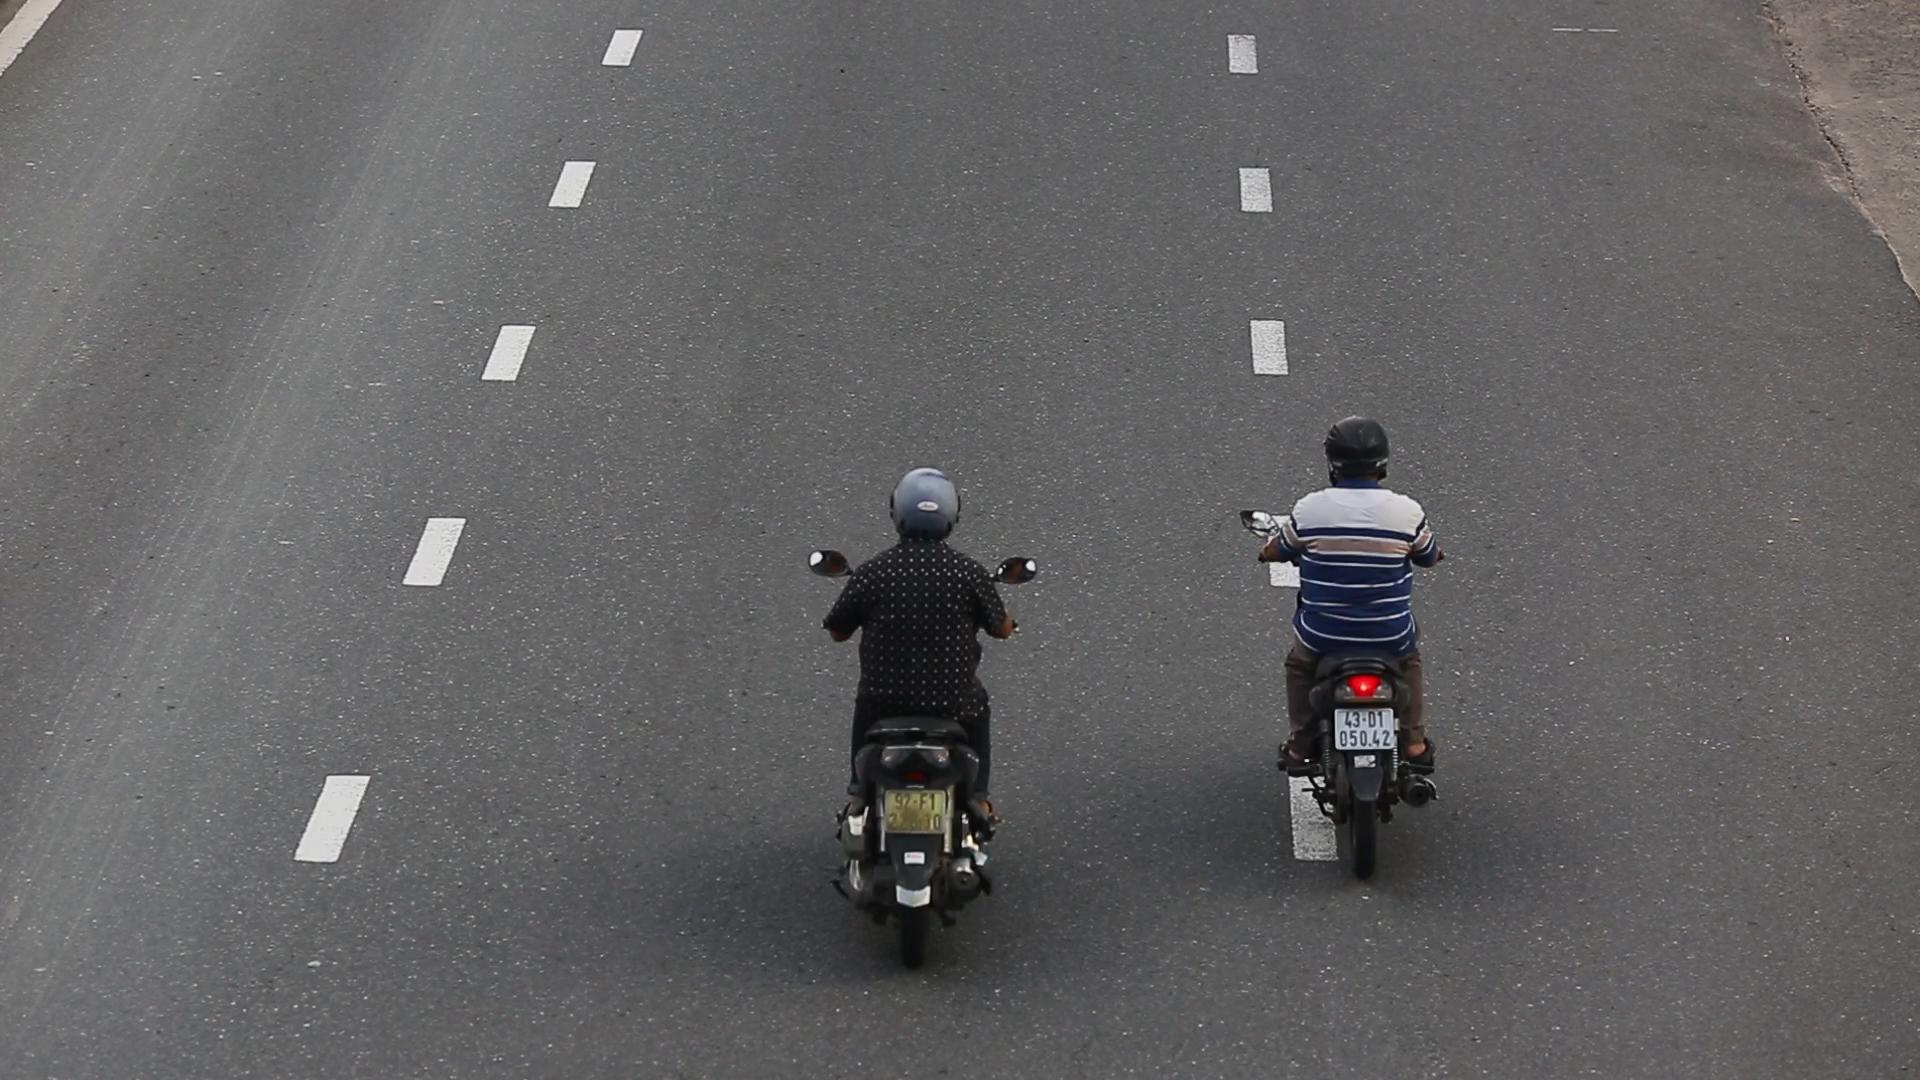motobike: (786, 440, 1056, 981), (1228, 388, 1478, 884)
